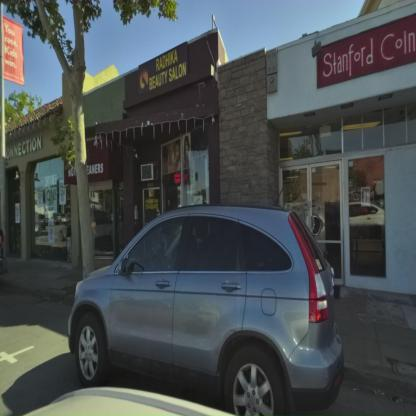car: (60, 204, 345, 413)
